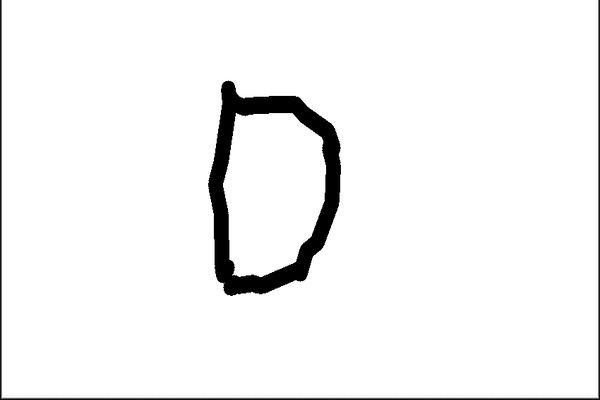D: (203, 73, 348, 300)
